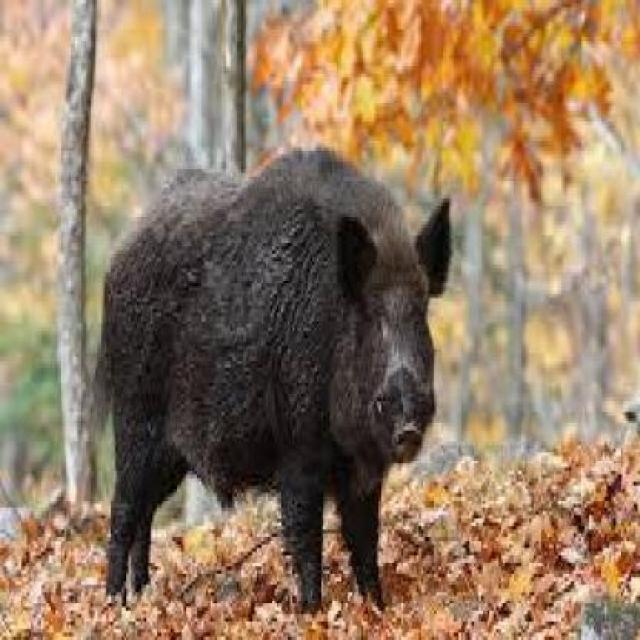wildboar: (84, 134, 458, 606)
